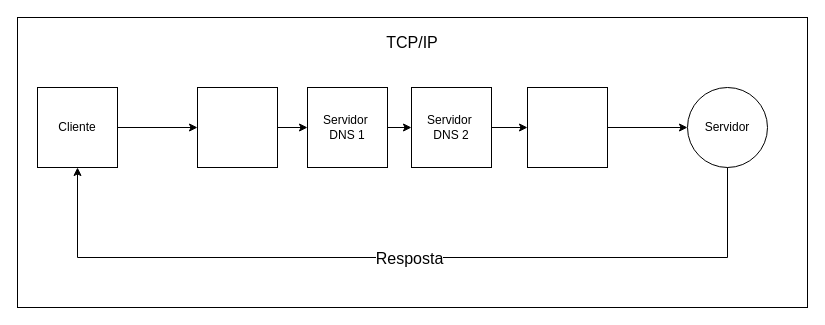
Image size: 825x325. Some labels were removed from this diagram. Here are the shapes that lost their labels. From the top down, the centre of each, then its label:
point (237, 127): HTTP
point (567, 127): Servidor DNS X
